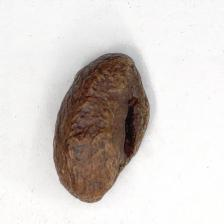NG: (110, 90, 149, 176)
